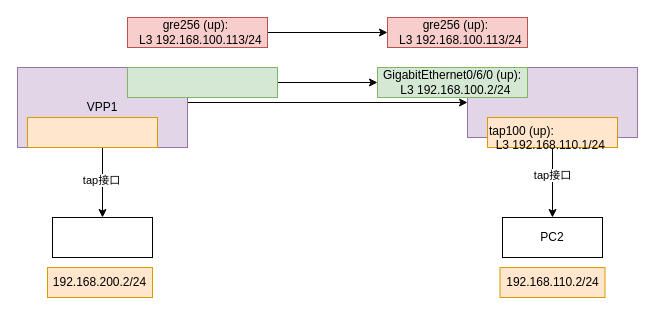
Image size: 655x315. Some labels were removed from this diagram. The box of each missing label's shape, as (x1, y1, x2, y2) in pixels:
GigabitEthernet0/6/0 (up): L3 192.168.100.113/24: (126, 66, 278, 98)
PC 1: (52, 216, 152, 258)
tap100 (up): L3 192.168.200.1/24: (26, 116, 158, 148)
VPP2: (466, 66, 638, 138)
